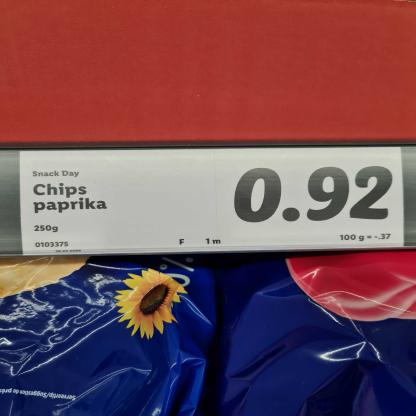prtg: (21, 148, 404, 256)
